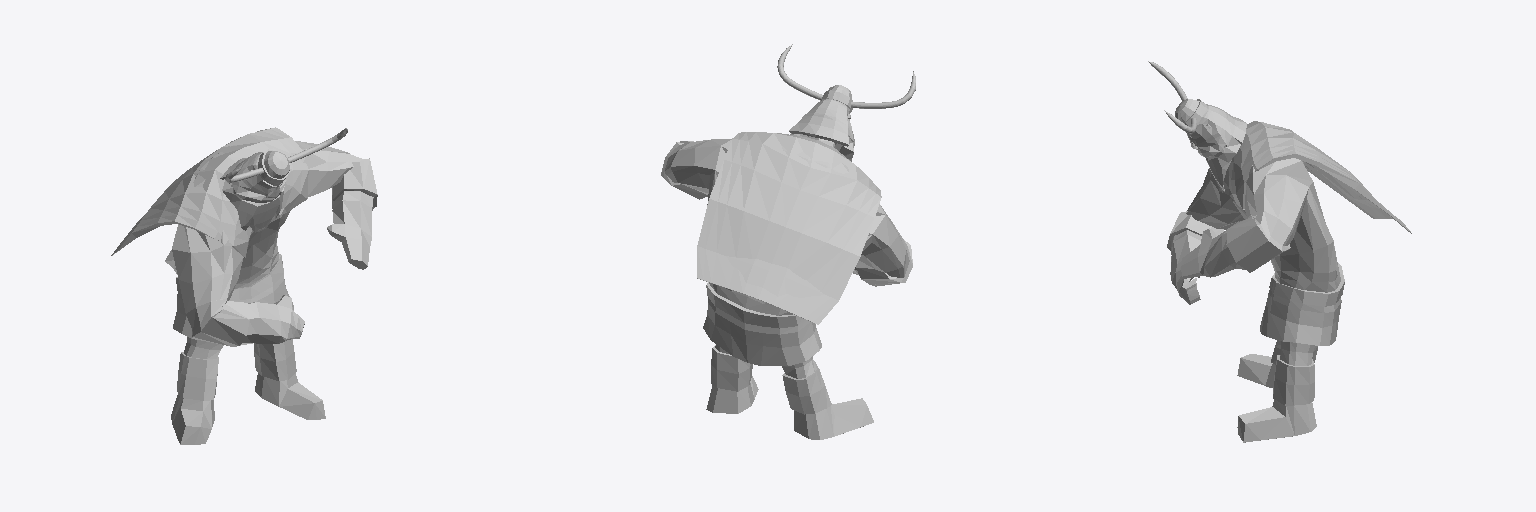
The model's file is vikingoCelebracion_000473.obj.
The picture shows the model from 3 angles: view 1: azimuth 30°, elevation 25°; view 2: azimuth 150°, elevation 25°; view 3: azimuth 270°, elevation 25°; orthographic projection.
Visible parts, largest first — view 1: Vilkingo_ikingoH; view 2: Vilkingo_ikingoH; view 3: Vilkingo_ikingoH.
Boxes of the visible parts, x1=… form: Vilkingo_ikingoH: x1=111, y1=127, x2=377, y2=444; Vilkingo_ikingoH: x1=661, y1=44, x2=915, y2=439; Vilkingo_ikingoH: x1=1148, y1=61, x2=1411, y2=442.
Bounding box in the file's own units: 4.21 × 5.99 × 4.44.